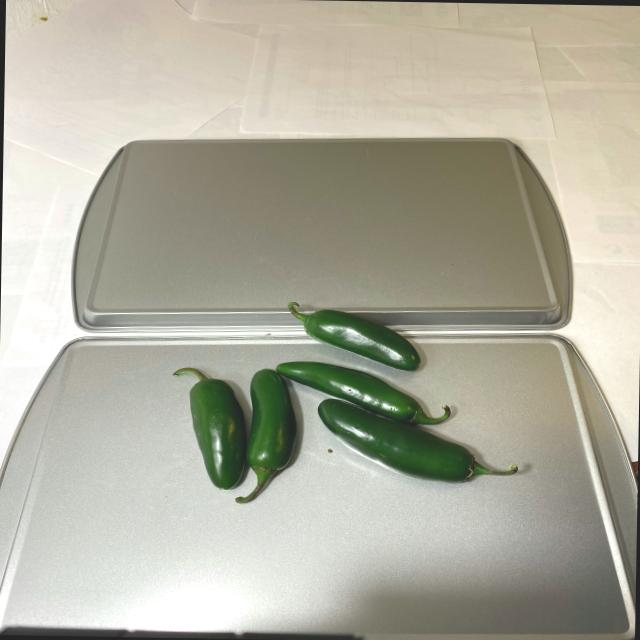chilli: (142, 292, 530, 512)
